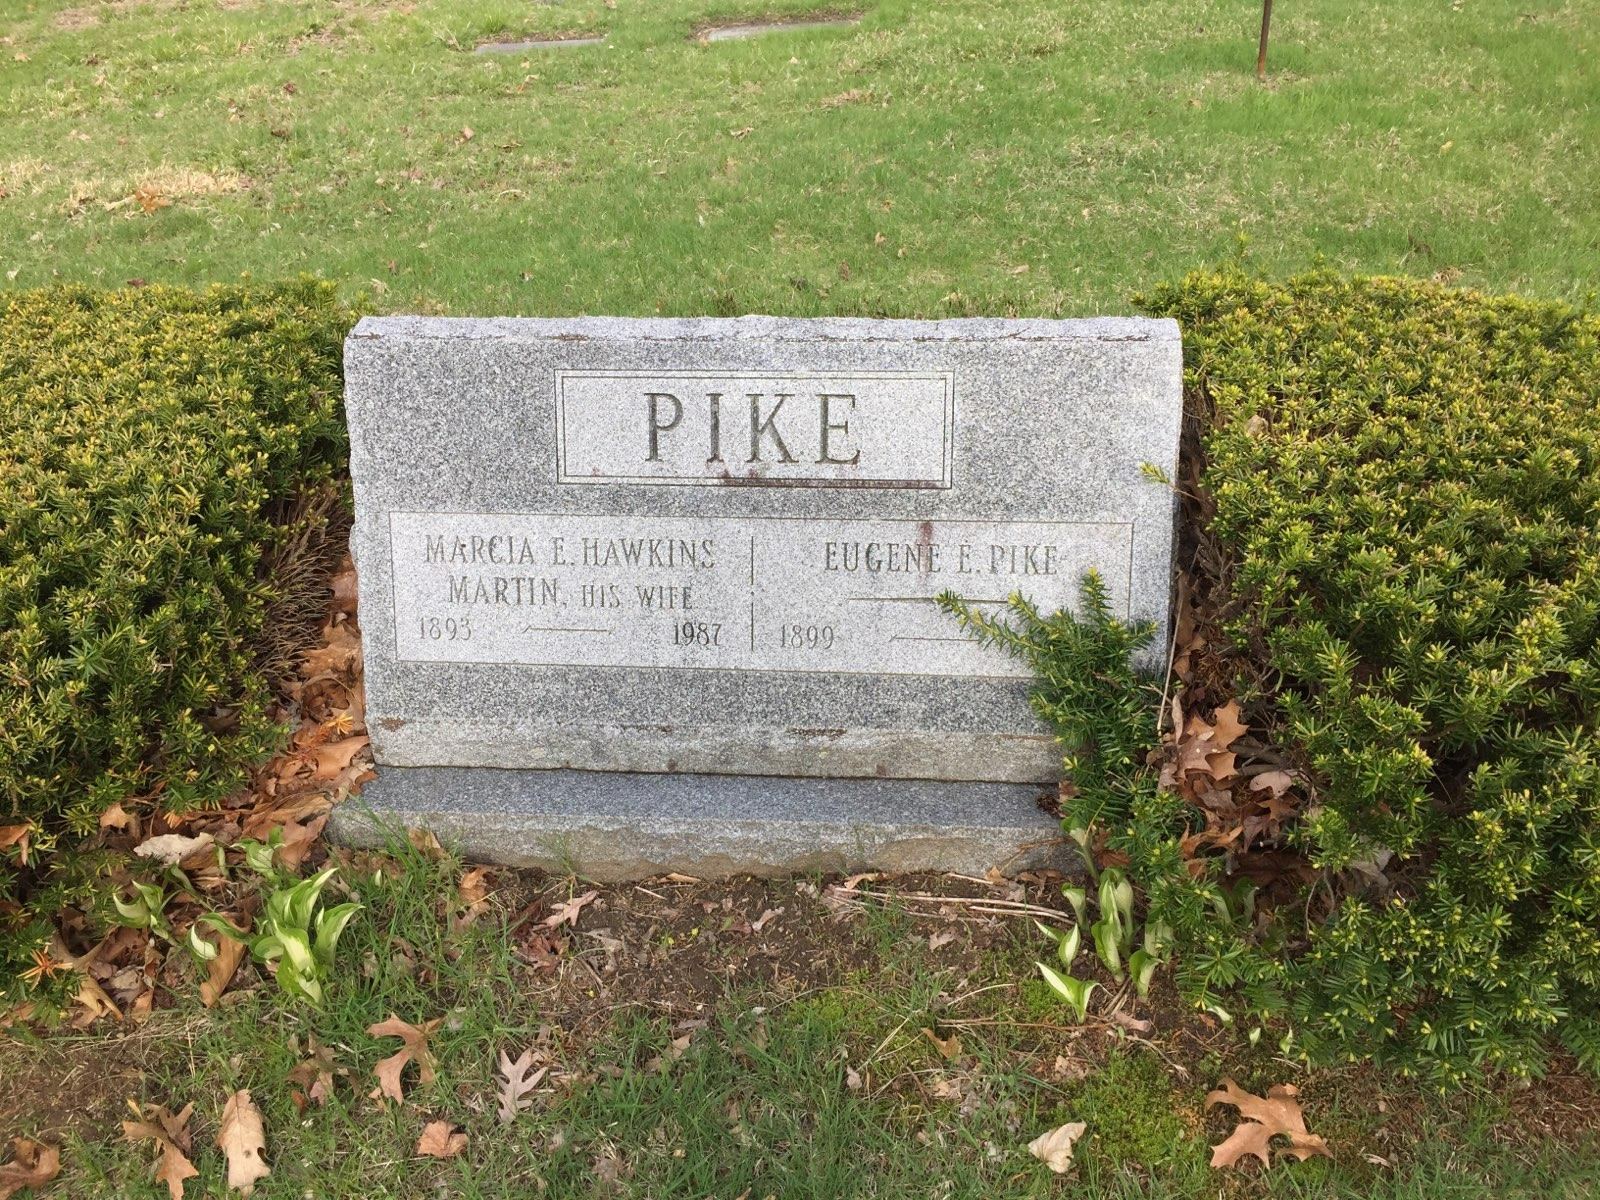slant: (343, 305, 1182, 848)
